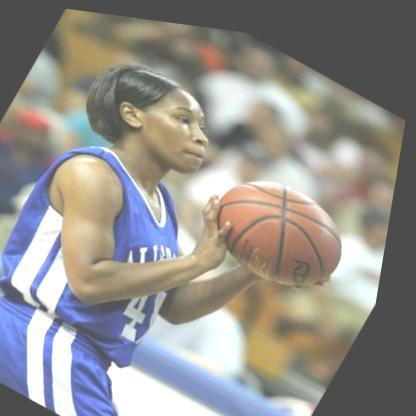basketball: (193, 146, 372, 299)
